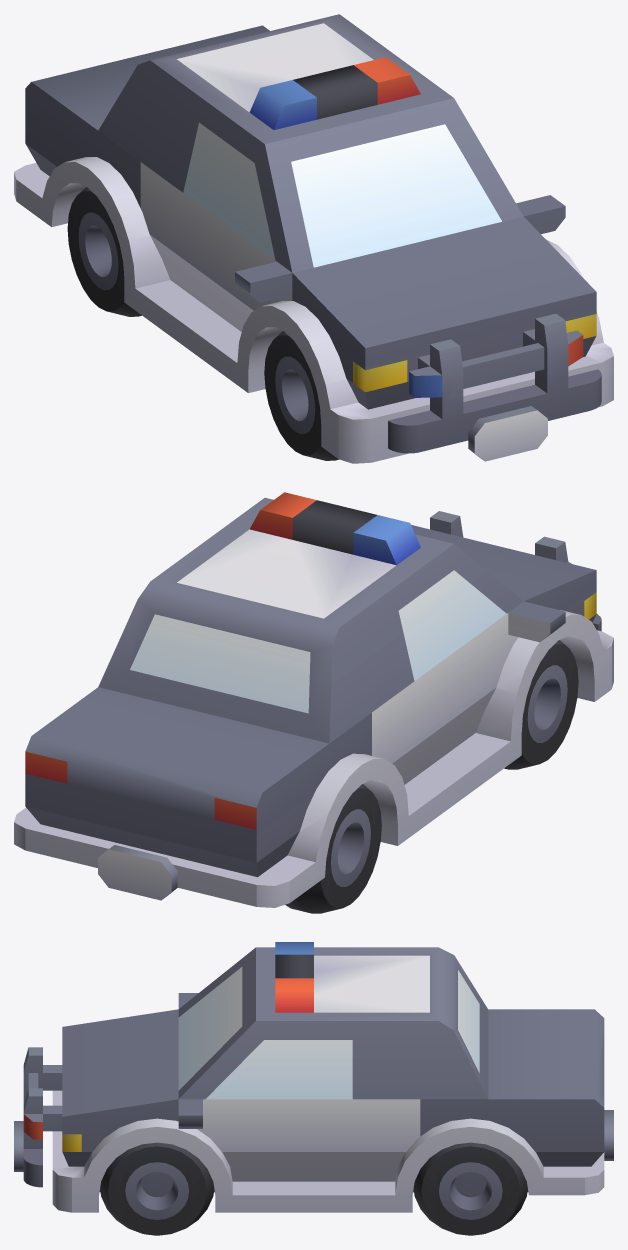
The model's file is police_car.glb.
3 views of the same model, one above another, from view 1: azimuth 30°, elevation 25°; view 2: azimuth 150°, elevation 25°; view 3: azimuth 270°, elevation 25° (orthographic). The views are drawn at different scales.
Parts seen in each view (by area): view 1: wheel-back-left; view 2: wheel-back-left; view 3: wheel-back-left.
Part boxes in pixels (x1=…): wheel-back-left: x1=14, y1=14, x2=613, y2=463; wheel-back-left: x1=14, y1=492, x2=613, y2=913; wheel-back-left: x1=14, y1=942, x2=613, y2=1235.
Bounding box in the file's own units: 1.5 × 1.3 × 3.1.
1 material, 1 textured.
